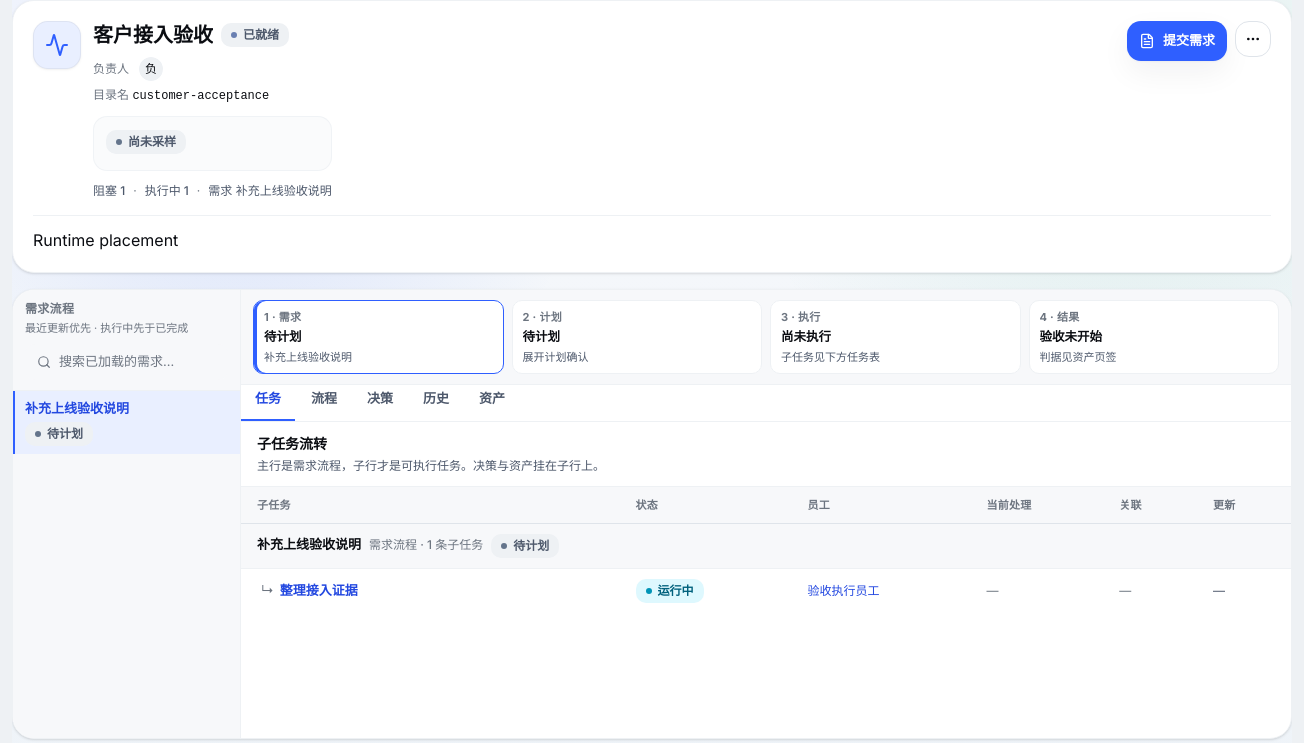
Scenario: ProjectOperationalDetail › shows template version, exit deliverable label and constraint notes from plan payload
The width and height of the screenshot is (1304, 743).
Click the button with test id "demand-river-plan" at (637, 337), box [512,300,762,374]
(page scrolled)
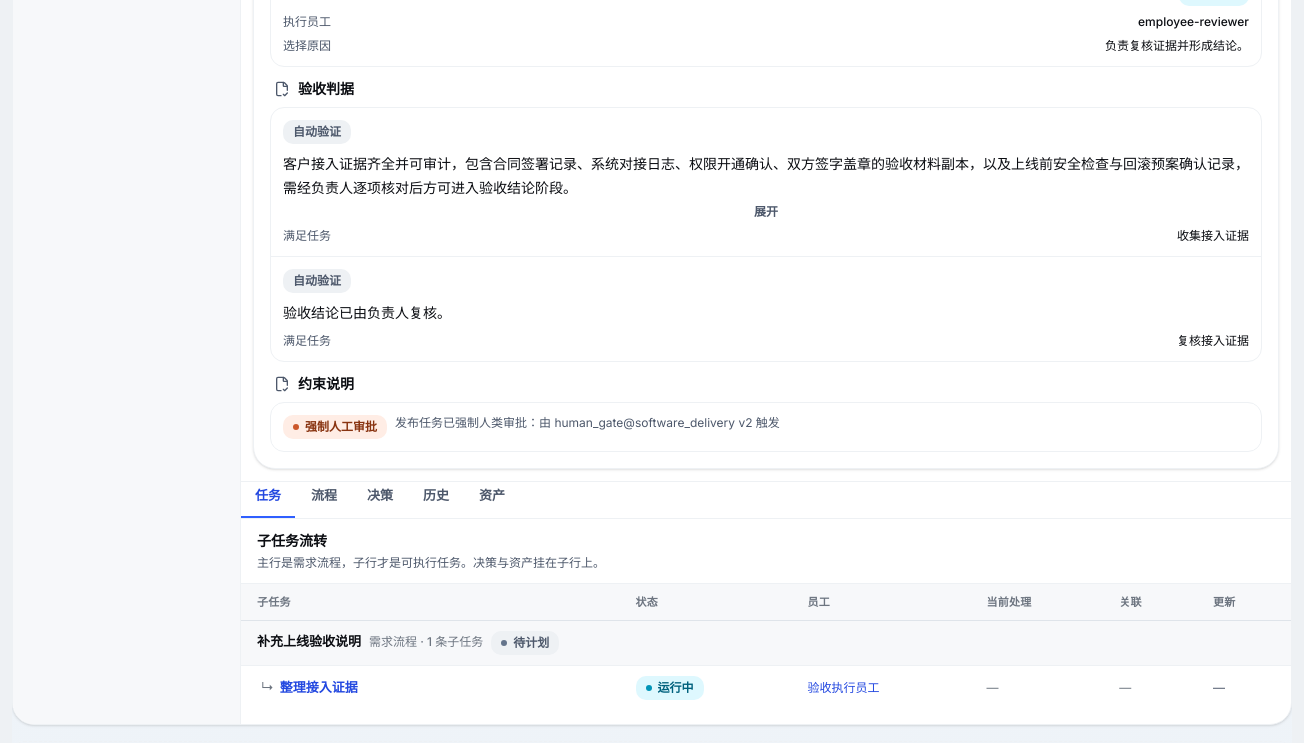
Now the text "发布任务已强制人类审批：由 human_gate@software_delivery v2 触发" is shown, box [395,415,780,430]
